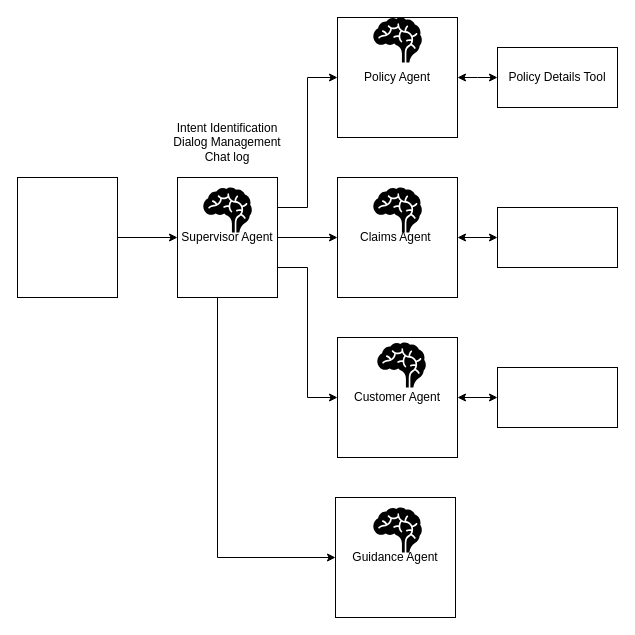
Some shapes in this 635 by 635 pixel diagram are drawn without their labels. Each missing label, with the centre of its shape:
"ChatBot/ AI Insights/ Guidance/ AI Companion" goes at point (67, 237).
"Claim Details Tool" goes at point (557, 237).
"Customer Details Tool" goes at point (557, 397).
